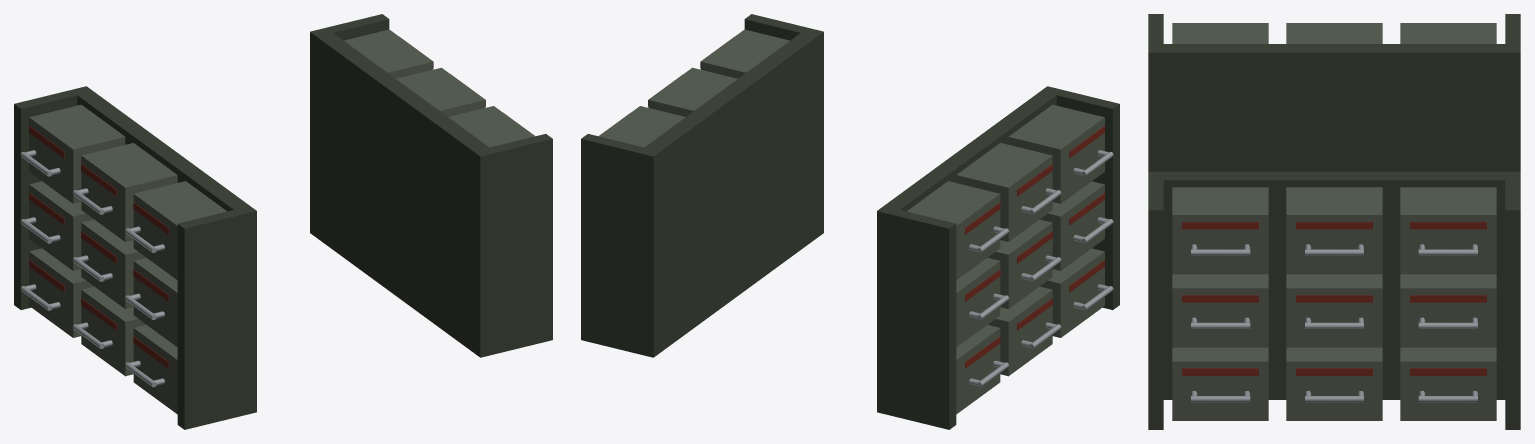
Rendered from s600_cells.obj.
The picture shows the model from 3 angles, left to right: view 1: azimuth 30°, elevation 25°; view 2: azimuth 150°, elevation 25°; view 3: azimuth 270°, elevation 25°; orthographic projection. The views are drawn at different scales.
Visible parts, largest first — view 1: s600_cells; view 2: s600_cells; view 3: s600_cells.
Boxes of the visible parts, <box> form: s600_cells: <box>14,14,552,429</box>; s600_cells: <box>581,14,1119,429</box>; s600_cells: <box>1148,14,1520,429</box>.
Bounding box in the file's own units: 2.67 × 1.3 × 2.
